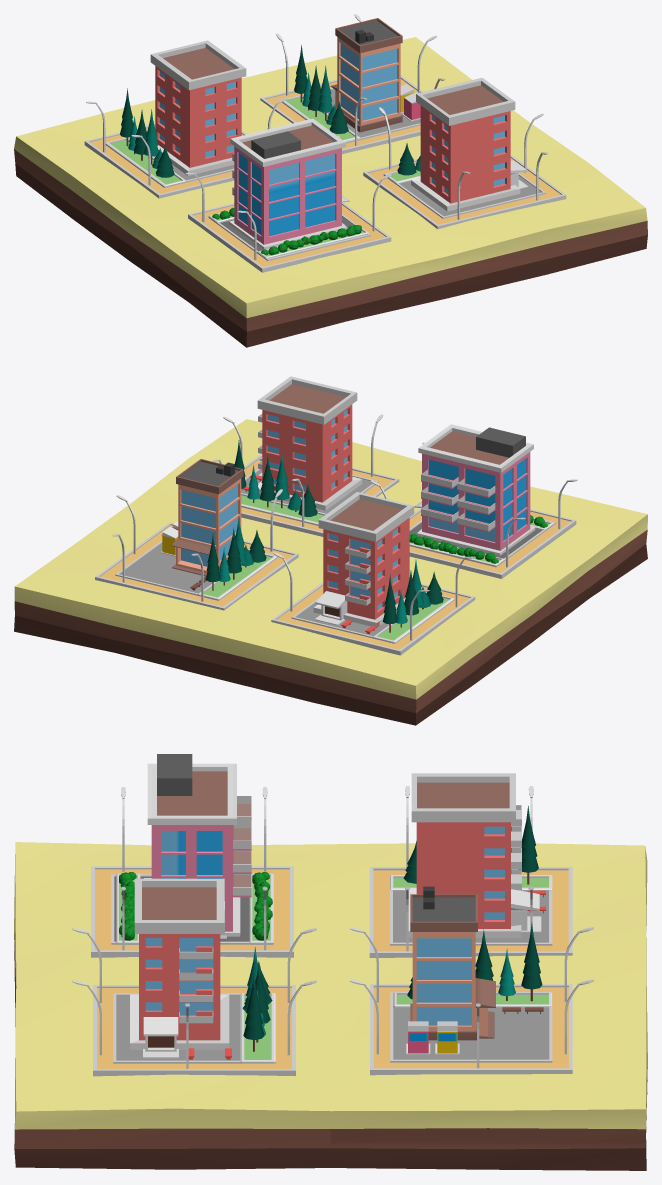
File: test_street.obj
3 views of the same model, one above another, from view 1: azimuth 30°, elevation 25°; view 2: azimuth 150°, elevation 25°; view 3: azimuth 270°, elevation 25° (orthographic). The views are drawn at different scales.
Visible parts, largest first — view 1: Floor_6_World_ap_0, House_World_ap_0, House_2_World_ap_0, House_2_World_ap_0.001, House_3_World_ap_0, Floor_World_ap_0, Floor_2_World_ap_0, Floor_2_World_ap_0.001, Floor_3_World_ap_0, Floor_4_2_World_ap_0, Cube_7_World_ap_0.001, Bushes_3_World_ap_0 (+4 smaller); view 2: Floor_6_World_ap_0, House_World_ap_0, House_2_World_ap_0.001, House_2_World_ap_0, House_3_World_ap_0, Floor_3_World_ap_0, Floor_2_World_ap_0.001, Floor_World_ap_0, Floor_4_3_World_ap_0, Floor_2_World_ap_0, Cube_7_World_ap_0.001, Cube_7_2_World_ap_0 (+5 smaller); view 3: Floor_6_World_ap_0, House_2_World_ap_0, House_2_World_ap_0.001, House_World_ap_0, House_3_World_ap_0, Floor_2_World_ap_0, Floor_3_World_ap_0, Floor_4_3_World_ap_0, Floor_World_ap_0, Floor_2_World_ap_0.001, Floor_4_2_World_ap_0, Floor_4_2_World_ap_0.001 (+12 smaller).
Boxes of the visible parts, bbox=[...] form: Floor_6_World_ap_0: bbox=[14, 37, 647, 347]; House_World_ap_0: bbox=[229, 118, 349, 249]; House_2_World_ap_0: bbox=[411, 77, 528, 211]; House_2_World_ap_0.001: bbox=[150, 40, 246, 175]; House_3_World_ap_0: bbox=[330, 18, 402, 132]; Floor_World_ap_0: bbox=[188, 202, 391, 272]; Floor_2_World_ap_0: bbox=[363, 154, 566, 229]; Floor_2_World_ap_0.001: bbox=[84, 124, 246, 198]; Floor_3_World_ap_0: bbox=[260, 75, 423, 153]; Floor_4_2_World_ap_0: bbox=[383, 173, 545, 218]; Cube_7_World_ap_0.001: bbox=[105, 137, 186, 187]; Bushes_3_World_ap_0: bbox=[261, 225, 361, 255]; Floor_6_World_ap_0: bbox=[14, 419, 647, 725]; House_World_ap_0: bbox=[414, 424, 535, 555]; House_2_World_ap_0.001: bbox=[313, 492, 414, 627]; House_2_World_ap_0: bbox=[257, 376, 362, 510]; House_3_World_ap_0: bbox=[171, 459, 243, 576]; Floor_3_World_ap_0: bbox=[95, 522, 298, 610]; Floor_2_World_ap_0.001: bbox=[271, 582, 475, 655]; Floor_World_ap_0: bbox=[409, 508, 576, 578]; Floor_4_3_World_ap_0: bbox=[115, 540, 277, 600]; Floor_2_World_ap_0: bbox=[241, 454, 399, 536]; Cube_7_World_ap_0.001: bbox=[373, 595, 454, 643]; Cube_7_2_World_ap_0: bbox=[198, 554, 276, 600]; Floor_6_World_ap_0: bbox=[14, 842, 647, 1170]; House_2_World_ap_0: bbox=[130, 878, 229, 1058]; House_2_World_ap_0.001: bbox=[408, 773, 541, 937]; House_World_ap_0: bbox=[144, 754, 251, 938]; House_3_World_ap_0: bbox=[410, 886, 495, 1040]; Floor_2_World_ap_0: bbox=[93, 985, 295, 1076]; Floor_3_World_ap_0: bbox=[370, 984, 572, 1075]; Floor_4_3_World_ap_0: bbox=[390, 992, 552, 1062]; Floor_World_ap_0: bbox=[91, 866, 293, 957]; Floor_2_World_ap_0.001: bbox=[369, 867, 572, 957]; Floor_4_2_World_ap_0: bbox=[113, 993, 275, 1063]; Floor_4_2_World_ap_0.001: bbox=[390, 875, 552, 945].
Size of the model in its own units: 364 by 124 by 364.
Materials: 2 (2 with a texture image).
